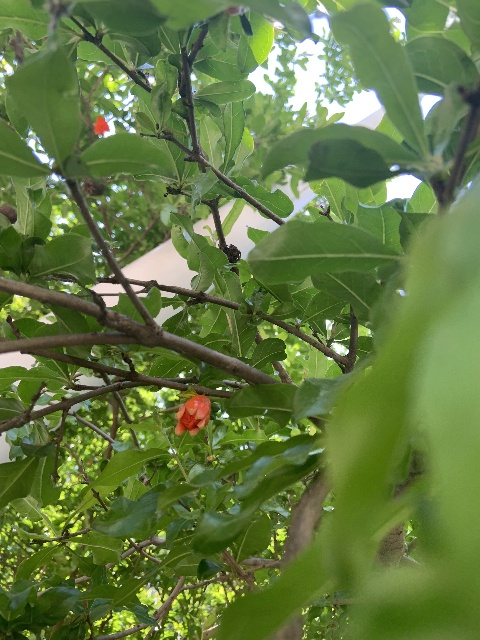flower: (172, 393, 210, 436), (93, 116, 109, 135)
